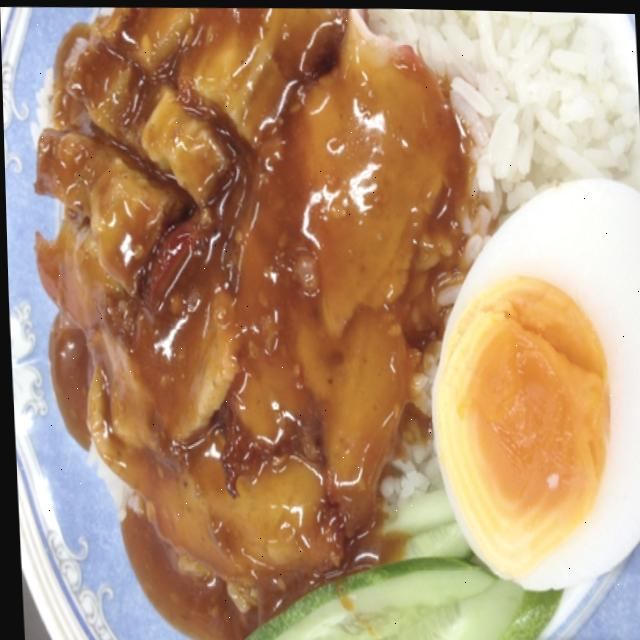猪肉菜式: (0, 0, 632, 636)
